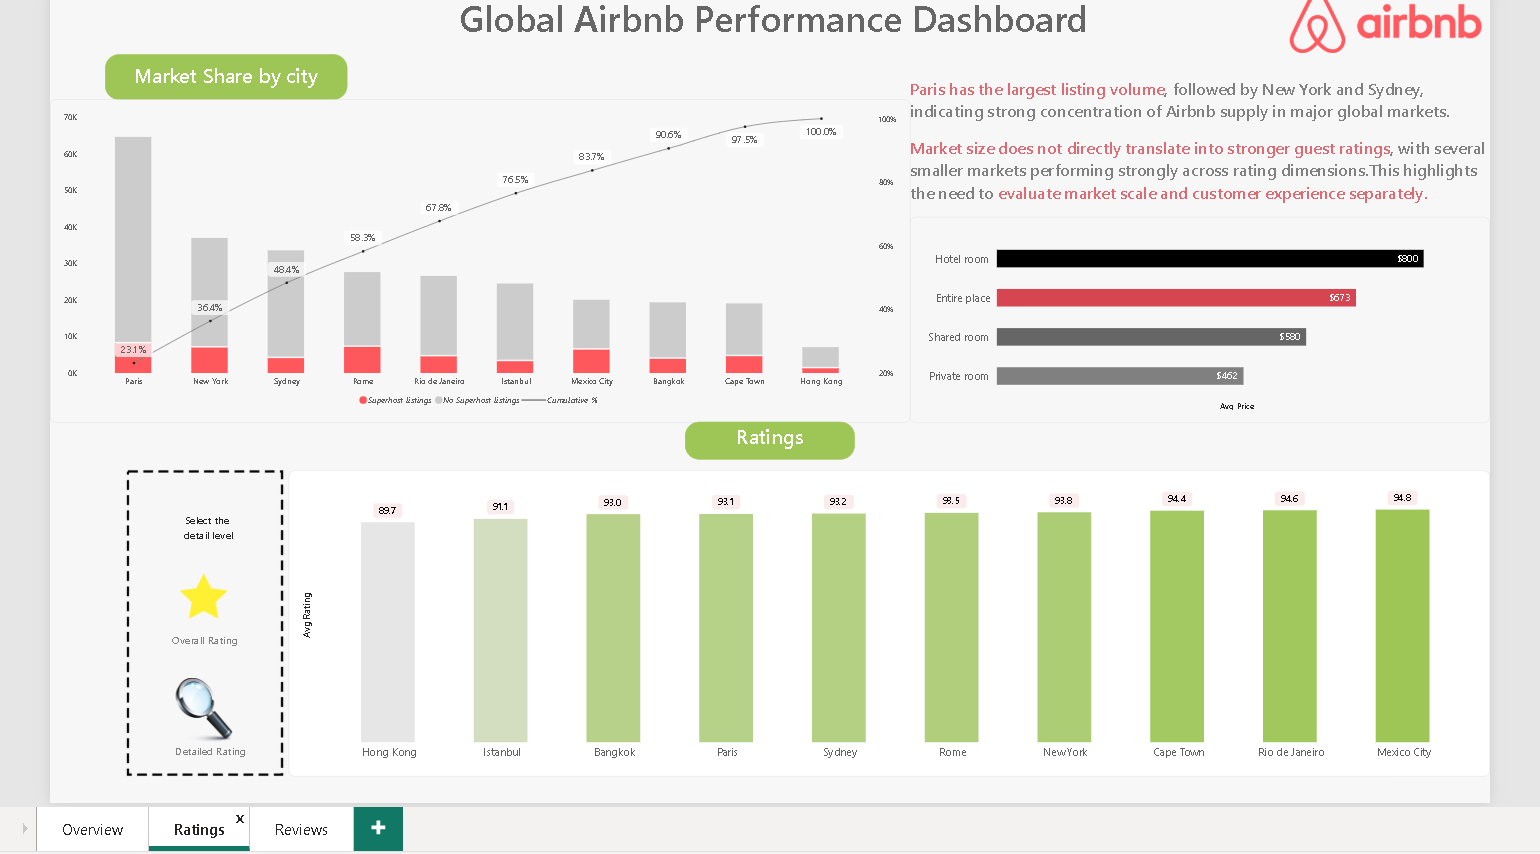

Layout of this report page (visuals, bound fields, positions):
{"tool":"powerbi","page":{"name":"Ratings","canvas":[1920,1080],"ordinal":1},"visuals":[{"type":"image","box":[1642.2,0,278,80],"z":0},{"type":"textbox","box":[10.8,0,1909,79],"z":1000},{"type":"textbox","box":[73.7,692.1,273,73.2],"z":2000},{"type":"textbox","box":[73.7,80.9,323.6,61.1],"z":4000},{"type":"textbox","box":[525,79.8,402.4,126.2],"z":5000},{"type":"lineStackedColumnComboChart","fields":{"Category":["Listings.city"],"Y":["Listings.Superhost listings","Listings.No Superhost listings"],"Y2":["Listings.Cumulative %"]},"box":[0,142,1147,431.5],"z":6000},{"type":"barChart","fields":{"Category":["Listings.room_type"],"Y":["Listings.Avg Price"]},"box":[1147,298.4,773,275.1],"z":7000},{"type":"columnChart","fields":{"Category":["Listings.city"],"Y":["Listings.Avg Rating"]},"box":[318.2,636.4,1601.8,408.1],"z":8000},{"type":"image","box":[115.3,770.4,179.5,67.8],"z":8000,"group":"g1"},{"type":"image","box":[41.3,622,330.8,436.9],"z":9000},{"type":"image","box":[142.4,913.2,125.4,87.4],"z":9000,"group":"g2"},{"type":"textbox","box":[36.9,432.1,127.4,59.5],"z":11000},{"type":"group","id":"g1","title":"Group 2","box":[93.2,770.4,226.3,119.5],"z":12000},{"type":"textbox","box":[93.2,852.5,226.3,37.5],"z":12000,"group":"g1"},{"type":"group","id":"g2","title":"Group 1","box":[110.4,913.2,209.1,130.3],"z":12500},{"type":"textbox","box":[1147,111.5,773,221.1],"z":12501},{"type":"textbox","box":[846.7,571.7,226.7,50],"z":12502},{"type":"textbox","box":[110.4,1000.6,209.1,42.8],"z":13000,"group":"g2"}]}

Visuals, with their boxes on the page's 1920x1080 design canvas (x1, y1, x2, y2). These are canvas units, not pixel positions in the 1540x854 screenshot, which may show the page scaled, cropped or inside an application window:
image: [1642, 0, 1920, 80]
textbox: [11, 0, 1920, 79]
textbox: [74, 692, 347, 765]
textbox: [74, 81, 397, 142]
textbox: [525, 80, 927, 206]
lineStackedColumnComboChart - Listings.city x Listings.Superhost listings: [0, 142, 1147, 574]
barChart - Listings.room_type x Listings.Avg Price: [1147, 298, 1920, 574]
columnChart - Listings.city x Listings.Avg Rating: [318, 636, 1920, 1044]
image: [115, 770, 295, 838]
image: [41, 622, 372, 1059]
image: [142, 913, 268, 1001]
textbox: [37, 432, 164, 492]
"Group 2" group: [93, 770, 320, 890]
textbox: [93, 852, 320, 890]
"Group 1" group: [110, 913, 320, 1044]
textbox: [1147, 112, 1920, 333]
textbox: [847, 572, 1073, 622]
textbox: [110, 1001, 320, 1043]
